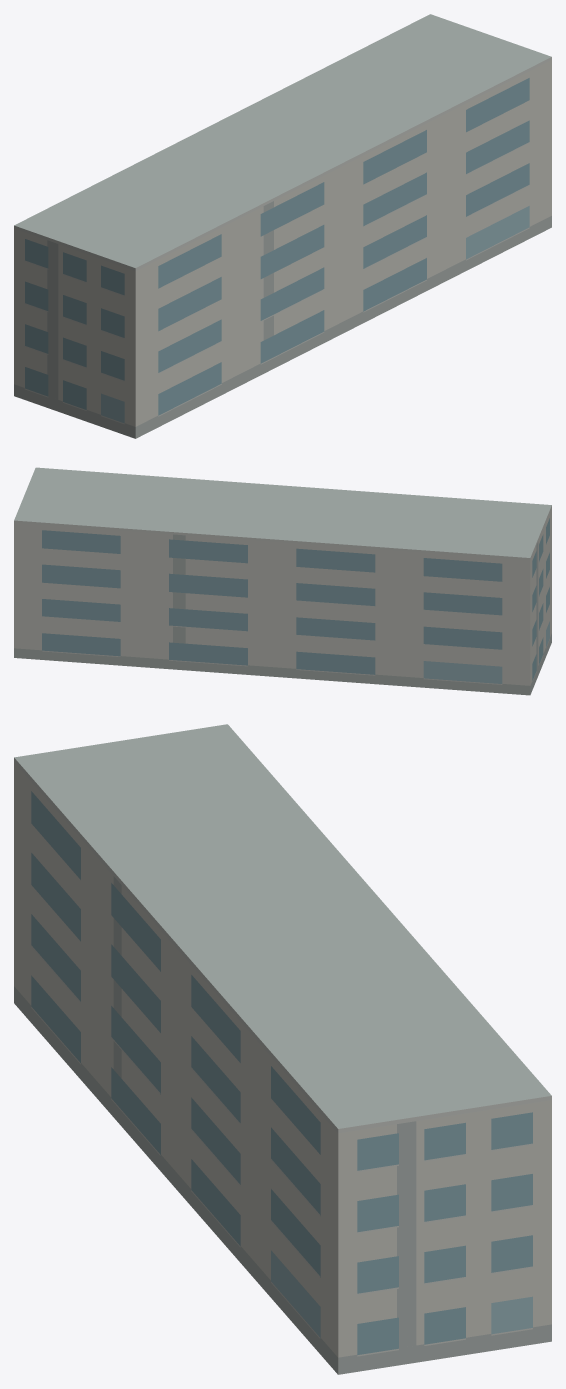
Rendered from residential-b07d3688-2774-4e11-8f98-fe337e9e6593.glb.
3 views of the same model, one above another, from view 1: azimuth 30°, elevation 25°; view 2: azimuth 150°, elevation 25°; view 3: azimuth 270°, elevation 25° (orthographic). The views are drawn at different scales.
Visible parts, largest first — view 1: residential-b07d3688-2774-4e11-8f98-fe337e9e6593.tmp; view 2: residential-b07d3688-2774-4e11-8f98-fe337e9e6593.tmp; view 3: residential-b07d3688-2774-4e11-8f98-fe337e9e6593.tmp.
Boxes of the visible parts, x1,y1,x2,y2 form: residential-b07d3688-2774-4e11-8f98-fe337e9e6593.tmp: (14,14,551,438); residential-b07d3688-2774-4e11-8f98-fe337e9e6593.tmp: (14,467,551,695); residential-b07d3688-2774-4e11-8f98-fe337e9e6593.tmp: (14,724,551,1374).
Size of the model in its own units: 49.47 by 14 by 27.77.
